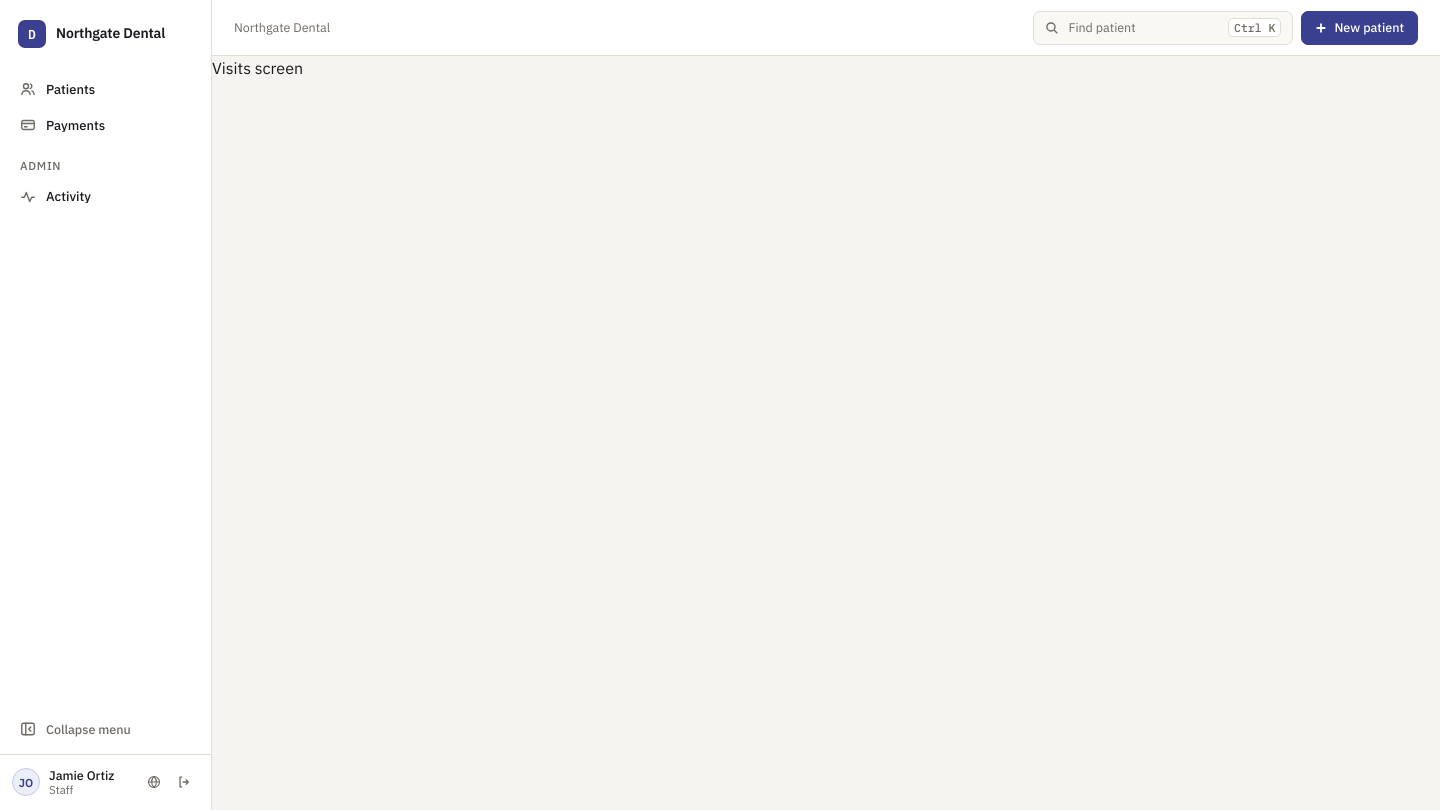
AppShell sidebar › switches the language from the footer, beside Sign out
Expected: the text "Visits screen" is shown, [212, 58, 303, 78]
Press the mouse on the button named "Language" at point(154, 782), box [139, 767, 169, 797]
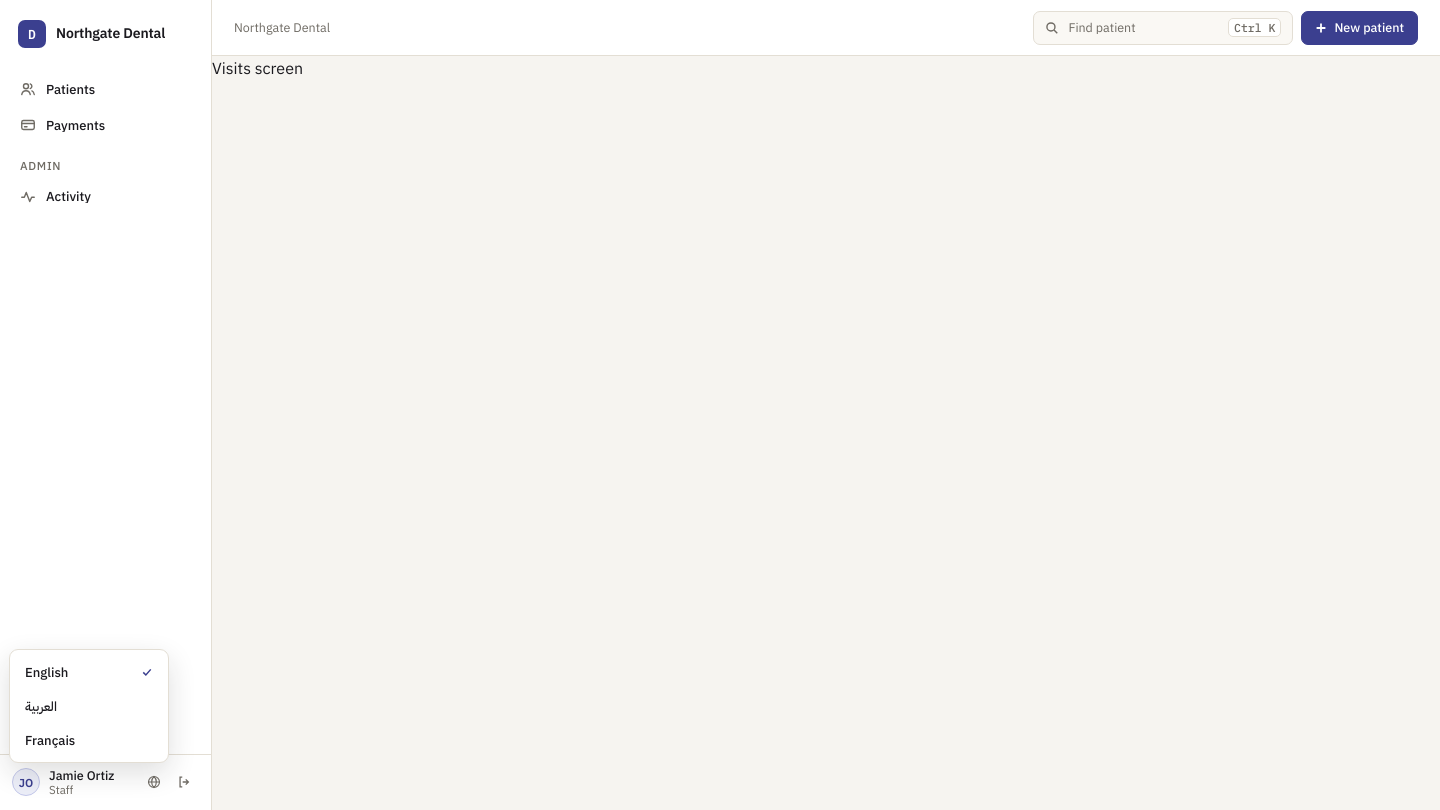
Click the menu item "العربية".
click(41, 706)  # box [25, 698, 57, 714]
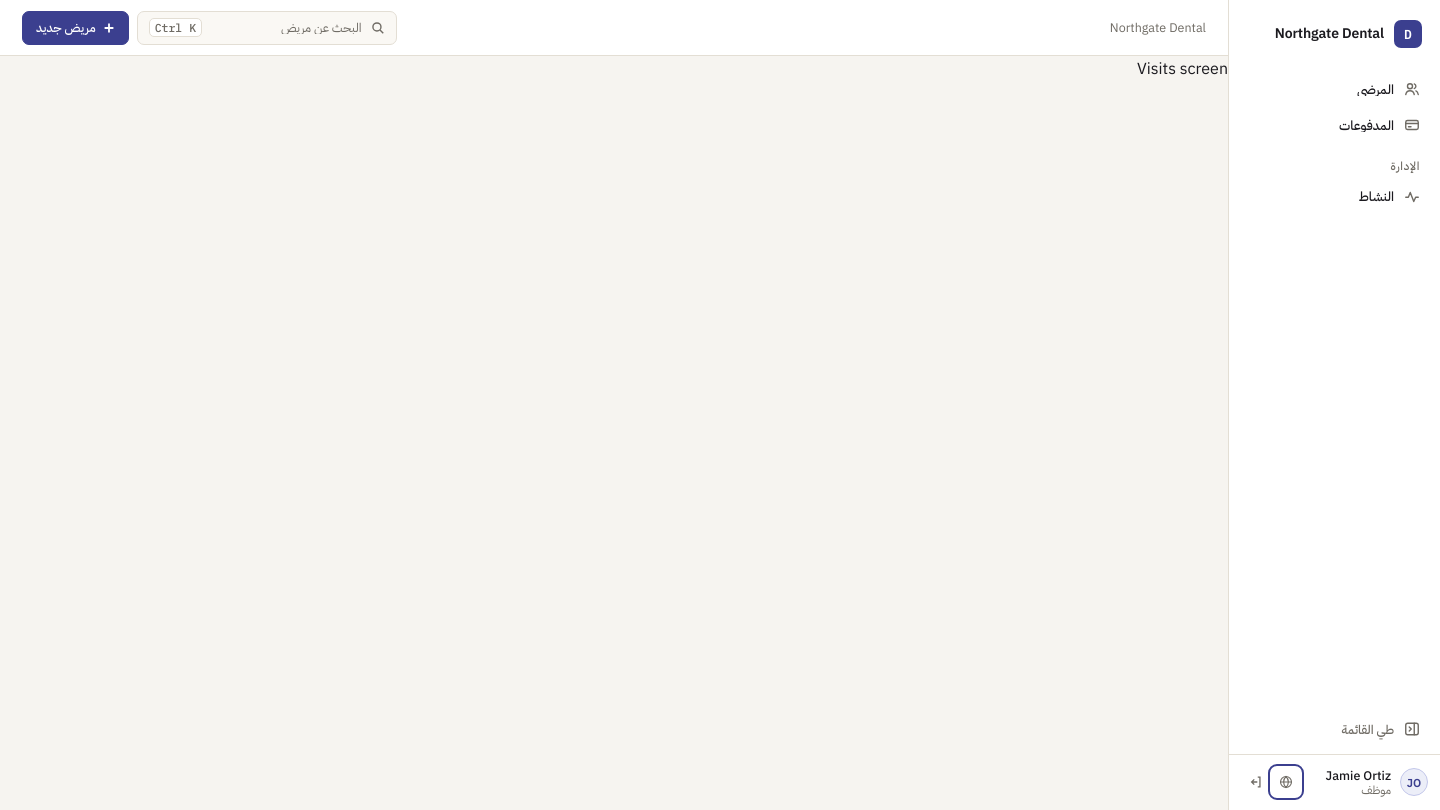
Now the link "المرضى" is shown, box [1357, 80, 1420, 98]
Now the button named "تسجيل الخروج" is shown, box [1241, 767, 1271, 797]
